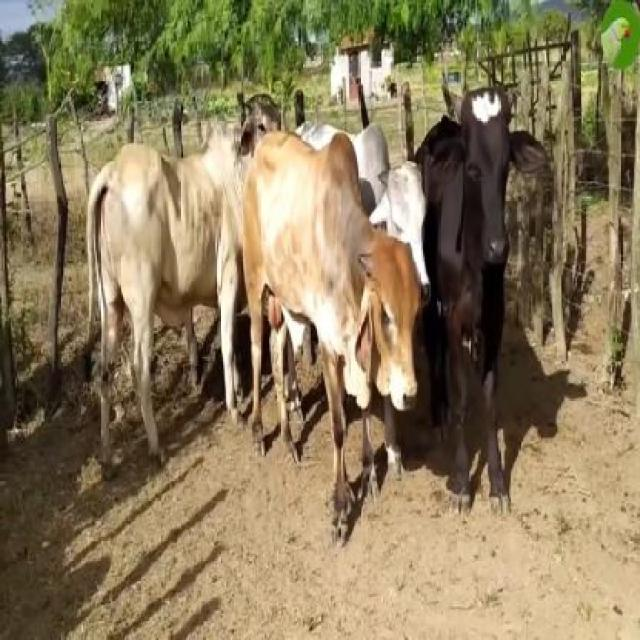Cow: (422, 77, 549, 518)
